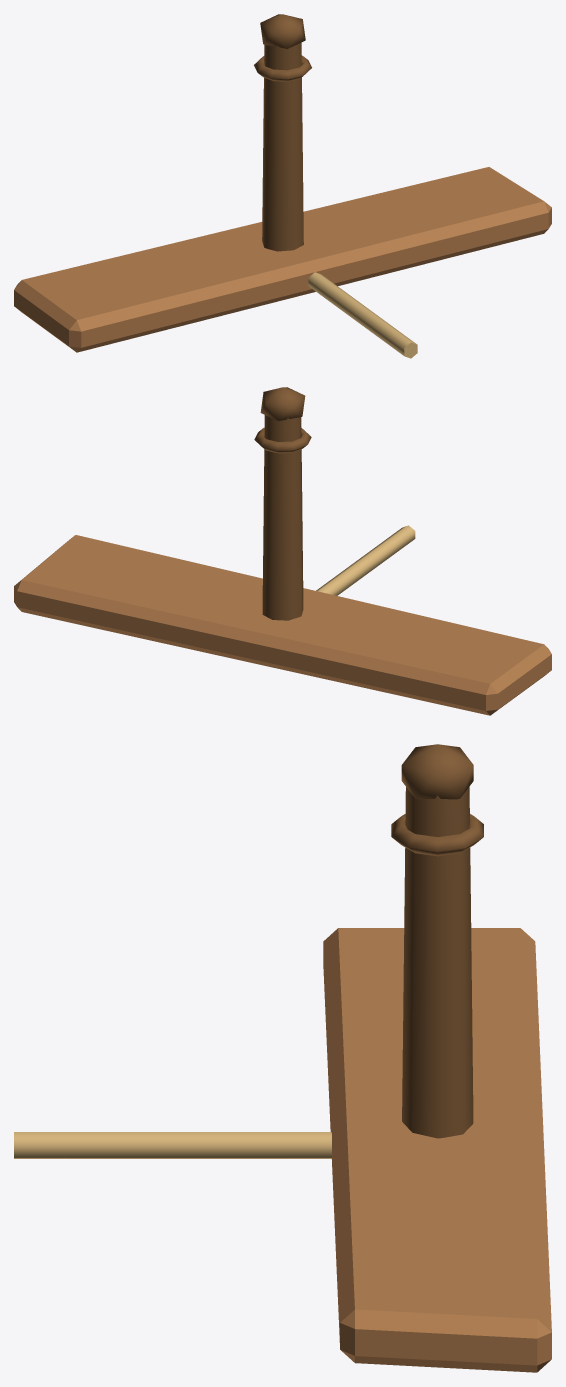
Rendered from ponte.glb.
3 renders of one model, top to bottom at view 1: azimuth 30°, elevation 25°; view 2: azimuth 150°, elevation 25°; view 3: azimuth 270°, elevation 25°, orthographic. The views are drawn at different scales.
Parts seen in each view (by area): view 1: tabua, poste, corda; view 2: tabua, poste, corda; view 3: tabua, poste, corda.
Boxes of the visible parts, x1,y1,x2,y2 form: tabua: (14, 167, 551, 352); poste: (254, 14, 311, 251); corda: (308, 272, 417, 358); tabua: (14, 535, 551, 715); poste: (254, 387, 311, 620); corda: (316, 525, 415, 595); tabua: (323, 928, 551, 1372); poste: (391, 744, 483, 1138); corda: (14, 1132, 331, 1158).
Size of the model in its own units: 2.2 by 1.14 by 1.27.
